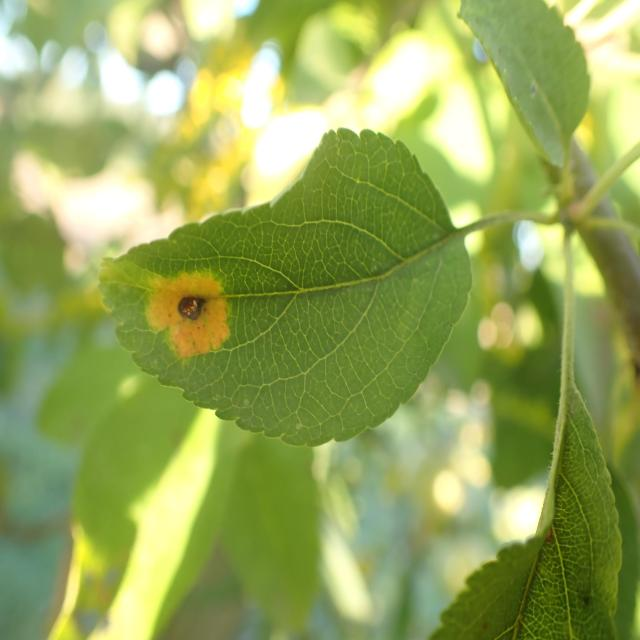rust: (98, 127, 472, 448)
